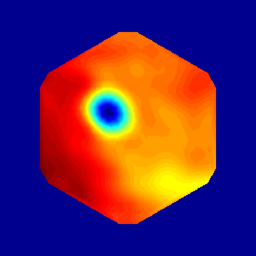ship: (91, 94, 125, 128)
wave: (62, 74, 101, 108)
